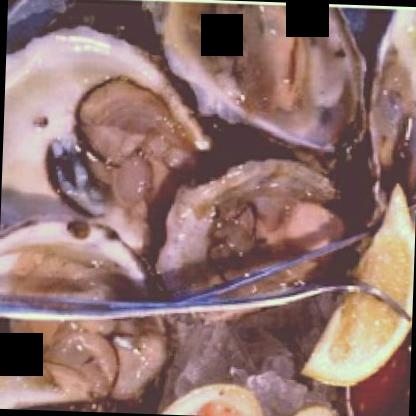oyster: (0, 42, 189, 248), (141, 0, 371, 166), (0, 229, 179, 415), (170, 164, 339, 303)
